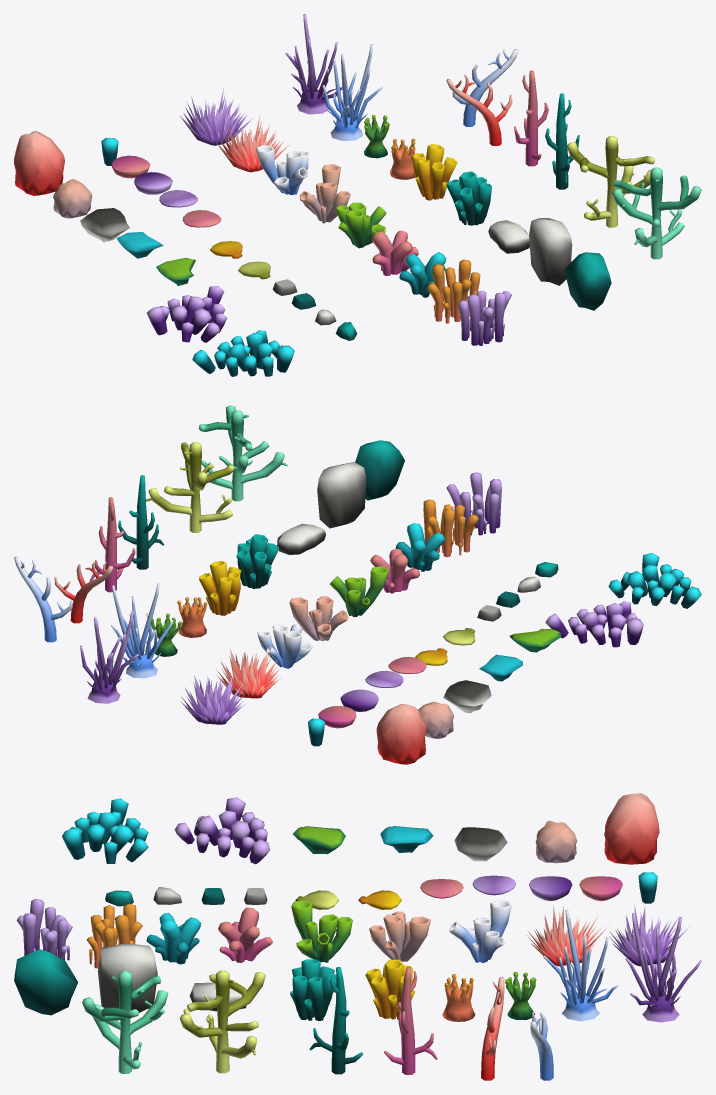
File: coral.fbx
3 views of the same model, one above another, from view 1: azimuth 30°, elevation 25°; view 2: azimuth 150°, elevation 25°; view 3: azimuth 270°, elevation 25° (orthographic). The views are drawn at different scales.
Visible parts, largest first — view 1: coral6, coral23, coral22, rock8, coral5, rock2, coral8, coral21, coral20, rock3, coral13, coral7 (+21 smaller); view 2: rock2, coral5, coral23, coral6, coral22, rock8, coral8, rock3, coral7, coral20, coral21, coral13 (+21 smaller); view 3: coral5, coral6, rock8, coral22, coral23, rock3, coral7, rock2, coral8, coral17, coral12, coral21 (+26 smaller).
Boxes of the visible parts, x1,y1,x2,y2 form: coral6: (612,167,701,259); coral23: (192,330,294,376); coral22: (146,286,227,342); rock8: (14,131,64,195); coral5: (566,135,654,227); rock2: (529,218,572,285); coral8: (322,44,382,140); coral21: (458,290,511,345); coral20: (426,259,480,323); rock3: (564,252,611,310); coral13: (179,88,253,145); coral7: (285,14,342,114); rock2: (317,462,366,528); coral5: (146,442,234,532); coral23: (608,552,701,608); coral6: (198,405,287,501); coral22: (545,601,643,647); rock8: (376,704,426,764); coral8: (111,583,173,678); rock3: (355,440,404,500); coral7: (80,610,138,703); coral20: (423,499,478,557); coral21: (446,472,501,535); coral13: (181,675,245,724); coral5: (179,970,265,1073); coral6: (82,970,168,1073); rock8: (604,793,659,864); coral22: (174,797,270,864); coral23: (62,798,148,863); rock3: (14,949,77,1015); coral7: (625,913,701,1022); rock2: (97,944,157,1012); coral8: (543,910,618,1021); coral17: (291,900,352,962); coral12: (290,959,336,1020); coral21: (16,899,72,960).
Size of the model in its own units: 9728 by 1799 by 10160.
Materials: 1 (1 with a texture image).
